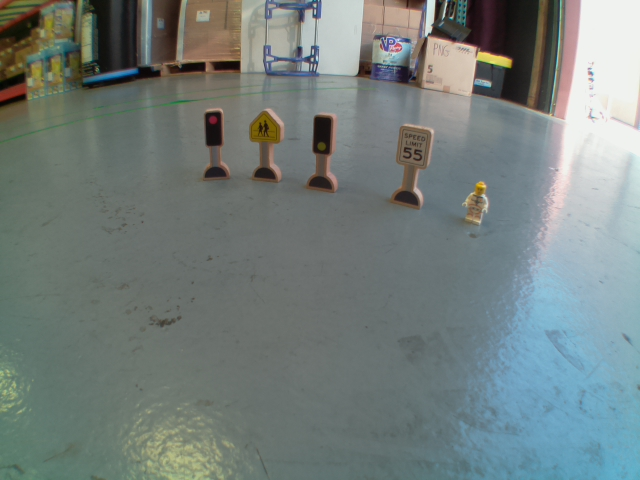Green Traffic Light: (311, 111, 337, 155)
Red Traffic Light: (203, 110, 225, 148)
Speed Limit 55: (394, 120, 432, 171)
YIELD: (245, 106, 283, 145)
person: (458, 178, 496, 226)
